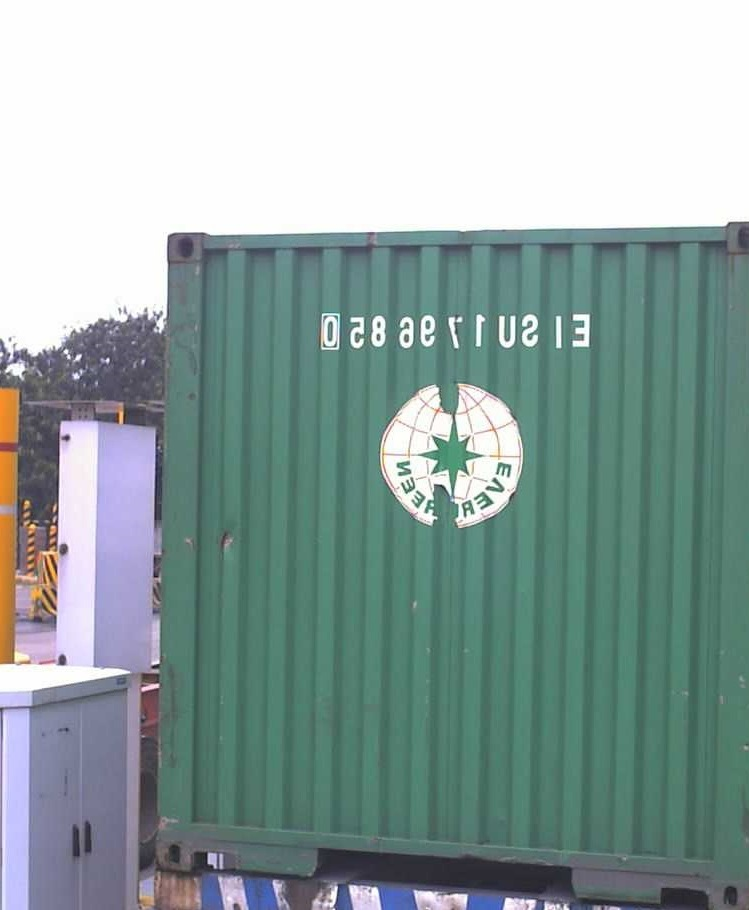container_no_door: (165, 228, 747, 905)
